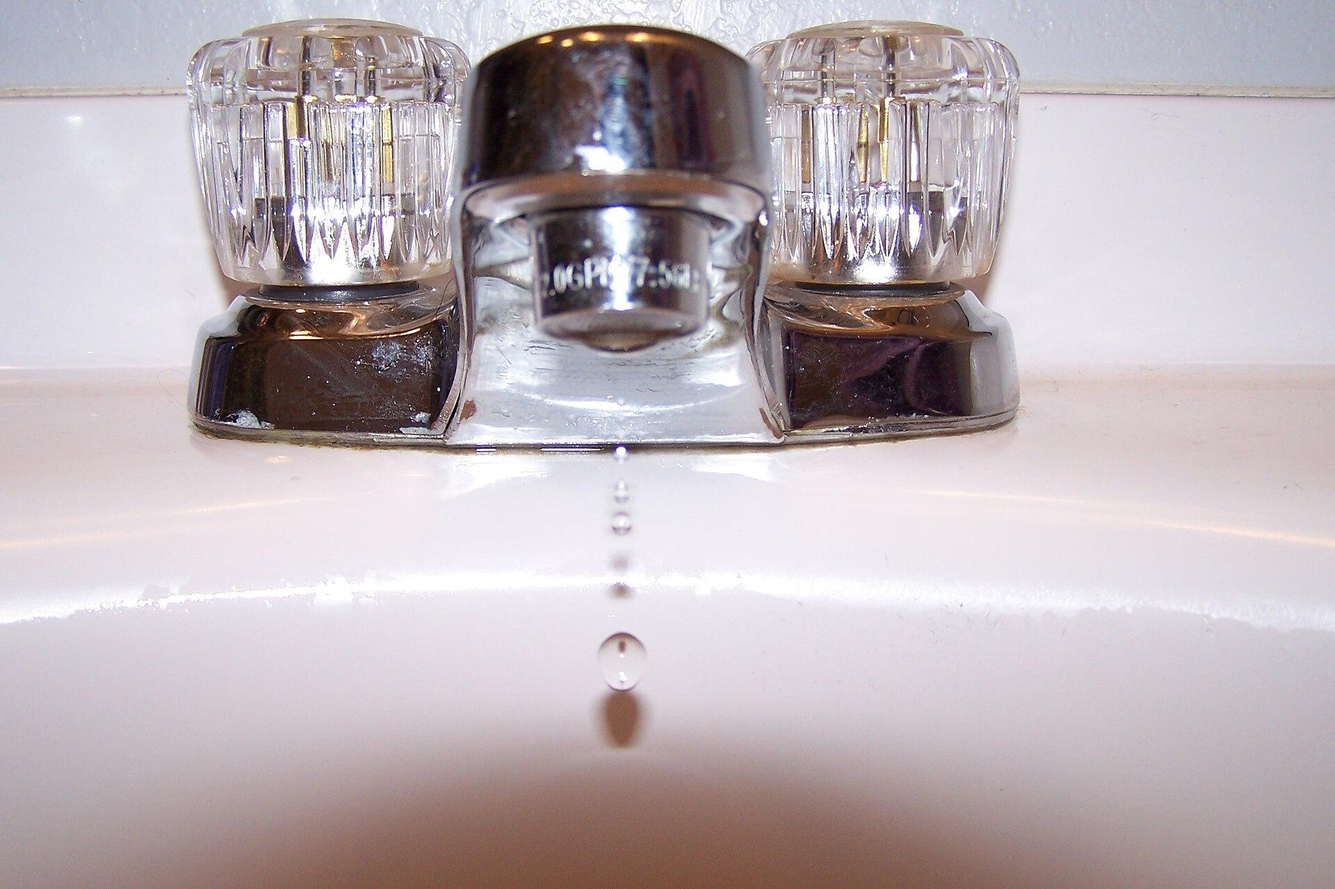water drop: (595, 631, 650, 694), (581, 328, 658, 352), (608, 510, 633, 534), (610, 480, 632, 501), (613, 443, 632, 463)
